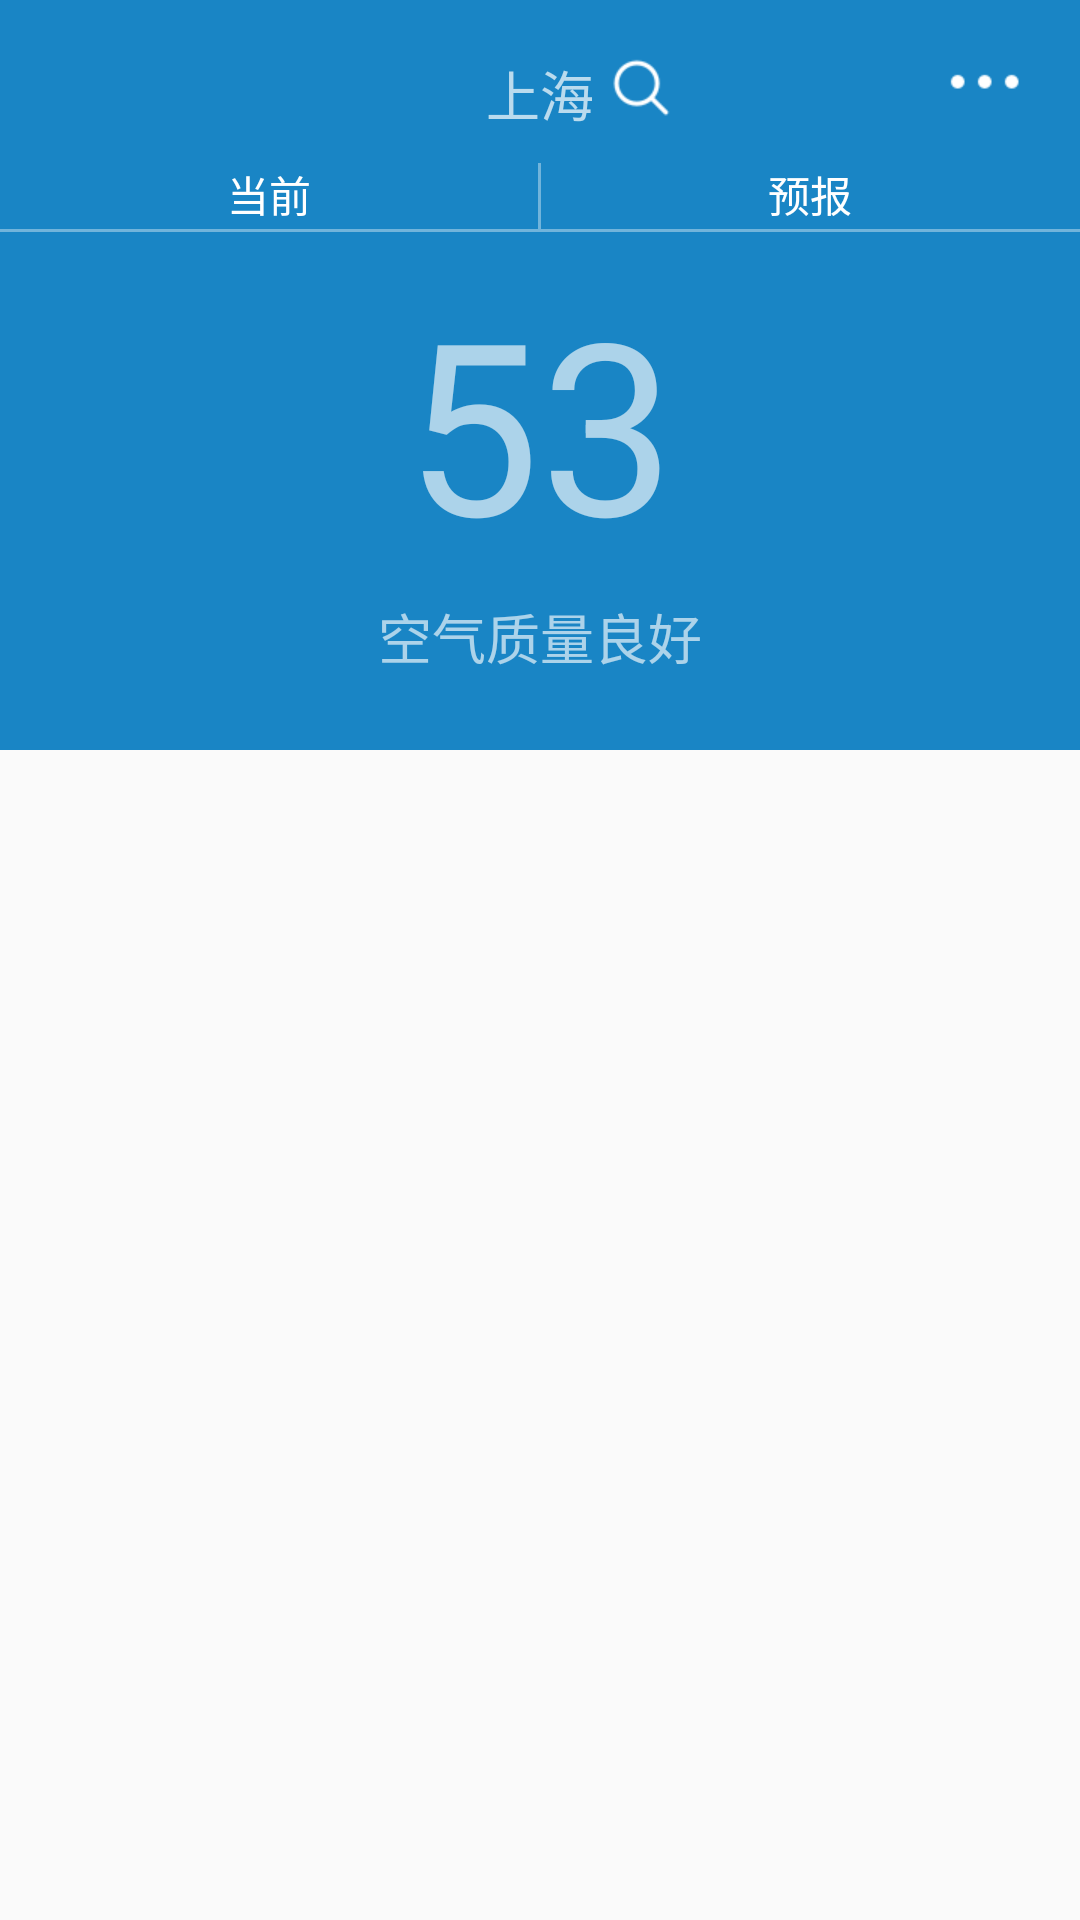

Locate icon controls on the screen. Image size 1080w x 1920h, boxes as {"left": x1, "top": y1, "right": x2, "bottom": y2}.
more: {"left": 950, "top": 74, "right": 1019, "bottom": 89}
search: {"left": 613, "top": 60, "right": 669, "bottom": 116}
